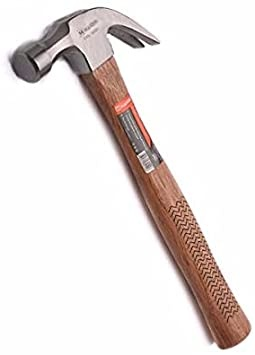hammer: (10, 5, 252, 347)
